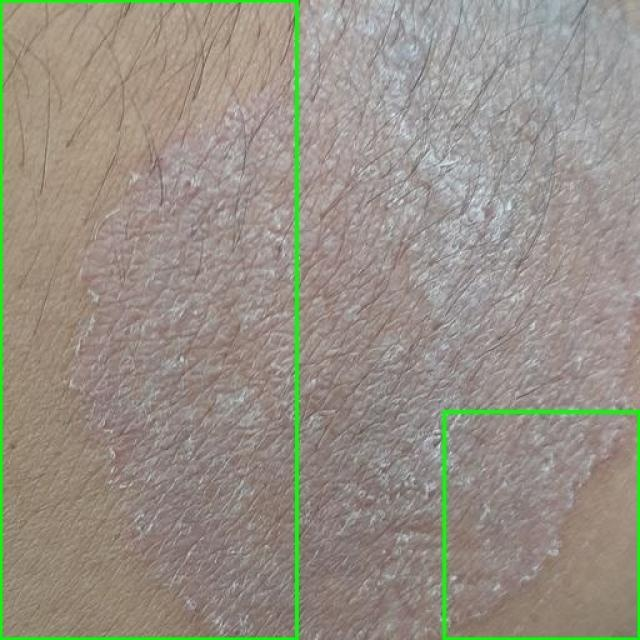Tinea Corporis: (0, 0, 296, 639), (444, 411, 639, 639)
